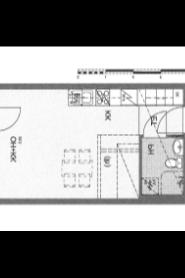door: (154, 106, 185, 135), (140, 110, 166, 140), (0, 104, 20, 133)
